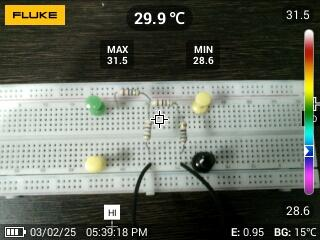resistor: (139, 116, 156, 142), (177, 119, 191, 145), (148, 98, 176, 109), (117, 88, 142, 98)
